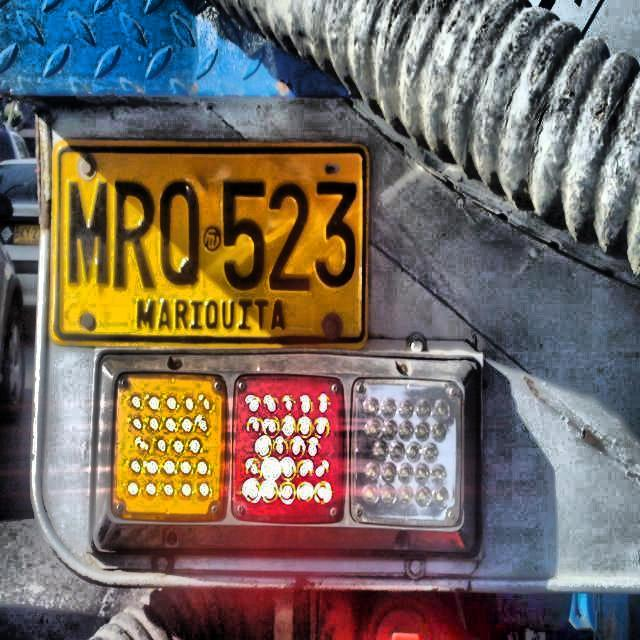plate: (58, 145, 364, 342)
